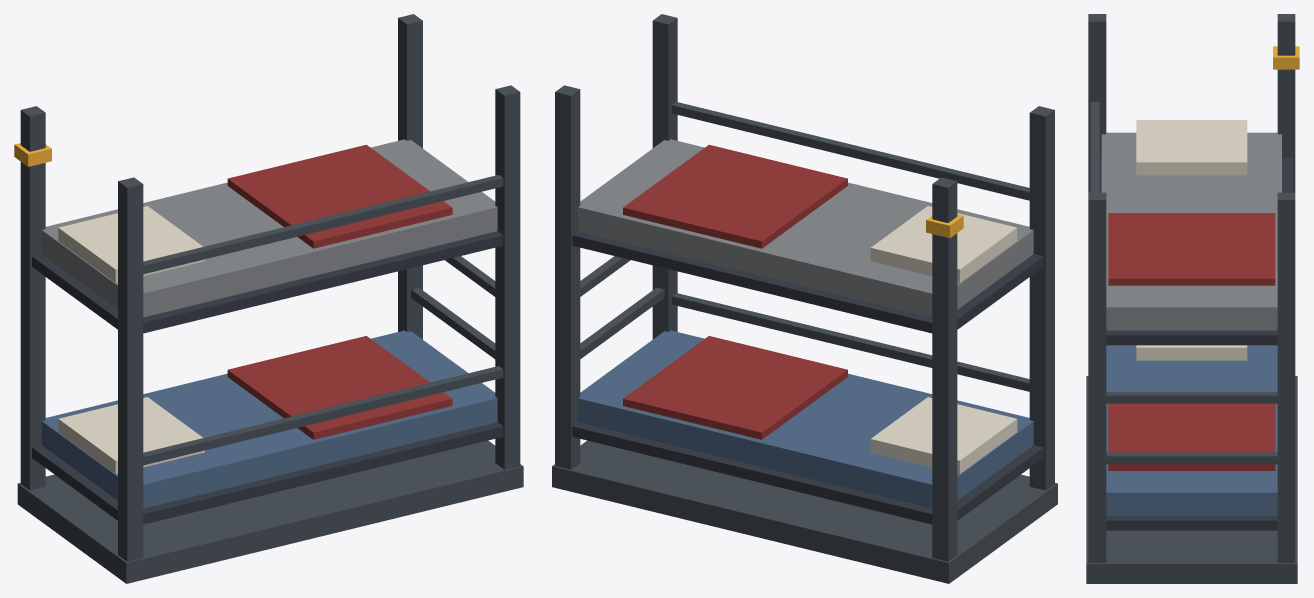
The model's file is GV_ShipBunk_01.glb.
3 views of the same model, side by side, from view 1: azimuth 30°, elevation 25°; view 2: azimuth 150°, elevation 25°; view 3: azimuth 270°, elevation 25° (orthographic). The views are drawn at different scales.
Parts seen in each view (by area): view 1: GV_ShipBunk_01; view 2: GV_ShipBunk_01; view 3: GV_ShipBunk_01.
Boxes of the visible parts, x1,y1,x2,y2 form: GV_ShipBunk_01: (14, 14, 523, 583); GV_ShipBunk_01: (552, 14, 1057, 583); GV_ShipBunk_01: (1086, 14, 1299, 583).
Bounding box in the file's own units: 2.01 × 1.9 × 0.96.
1 material, 1 textured.
